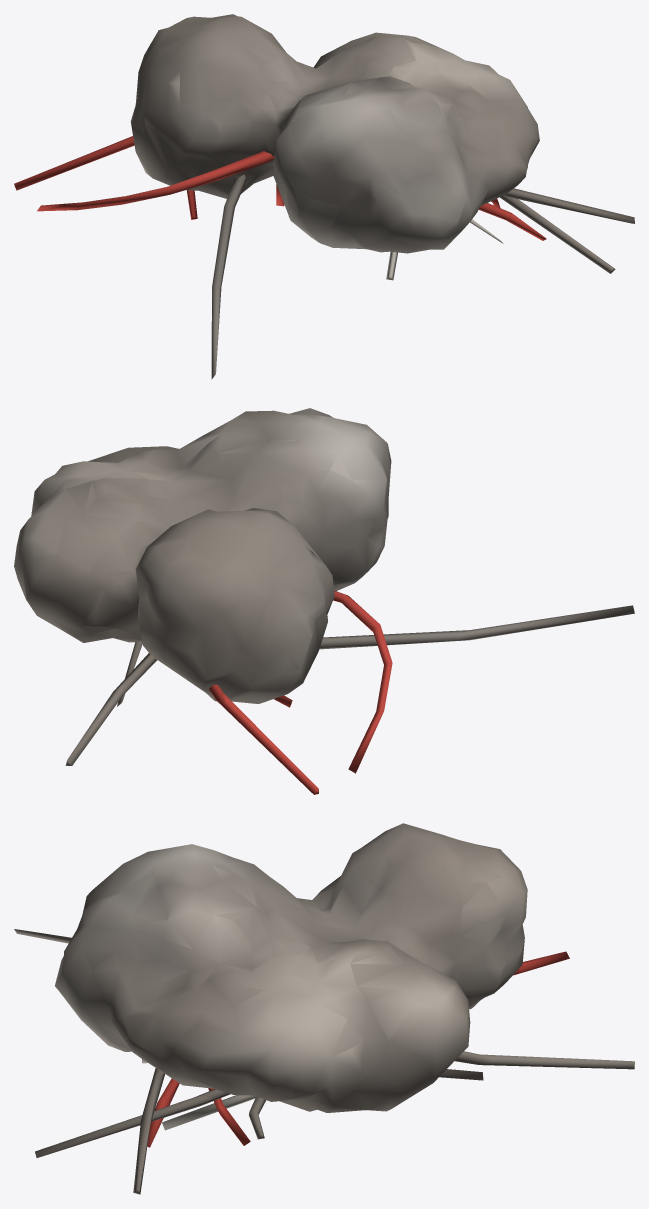
Rendered from den_dust_clump_lod1.glb.
3 renders of one model, top to bottom at view 1: azimuth 30°, elevation 25°; view 2: azimuth 150°, elevation 25°; view 3: azimuth 270°, elevation 25°, orthographic. The views are drawn at different scales.
Parts seen in each view (by area): view 1: den_dust_clump.001; view 2: den_dust_clump.001; view 3: den_dust_clump.001.
Part boxes in pixels (x1,y1,x2,y2): den_dust_clump.001: (14,14,634,379); den_dust_clump.001: (14,408,634,794); den_dust_clump.001: (14,823,634,1194).
Bounding box in the file's own units: 7.73 × 2.73 × 7.72.
